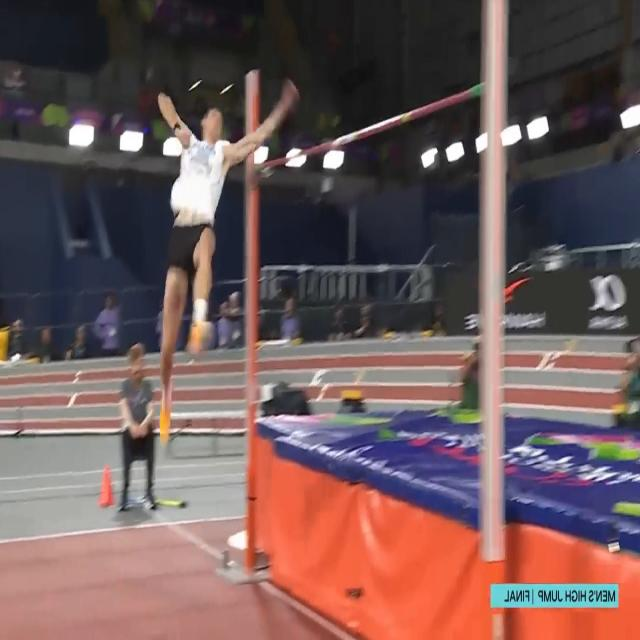jump: (157, 92, 295, 440)
